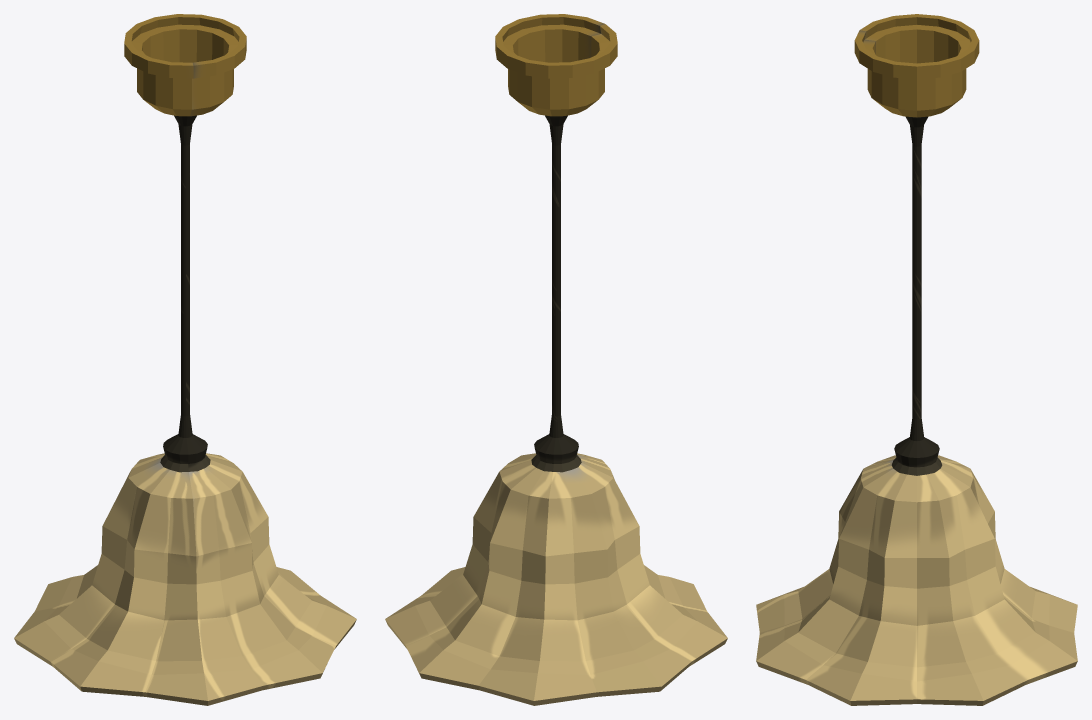
Rendered from lamp.fbx.
3 views of the same model, side by side, from view 1: azimuth 30°, elevation 25°; view 2: azimuth 150°, elevation 25°; view 3: azimuth 270°, elevation 25° (orthographic).
Visible parts, largest first — view 1: Cylinder; view 2: Cylinder; view 3: Cylinder.
Boxes of the visible parts, <box> form: Cylinder: <box>14,14,356,705</box>; Cylinder: <box>385,14,727,705</box>; Cylinder: <box>756,14,1077,705</box>.
Size of the model in its own units: 50.7 by 107 by 50.7.
